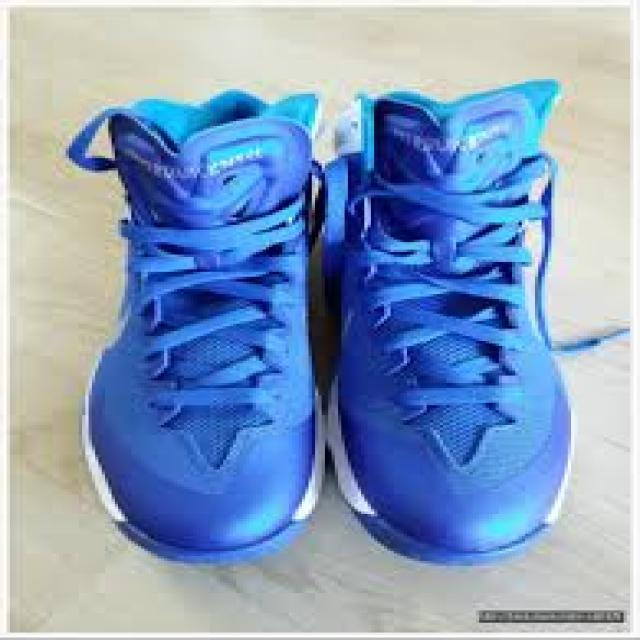shoe: (322, 79, 574, 571), (66, 91, 325, 568)
